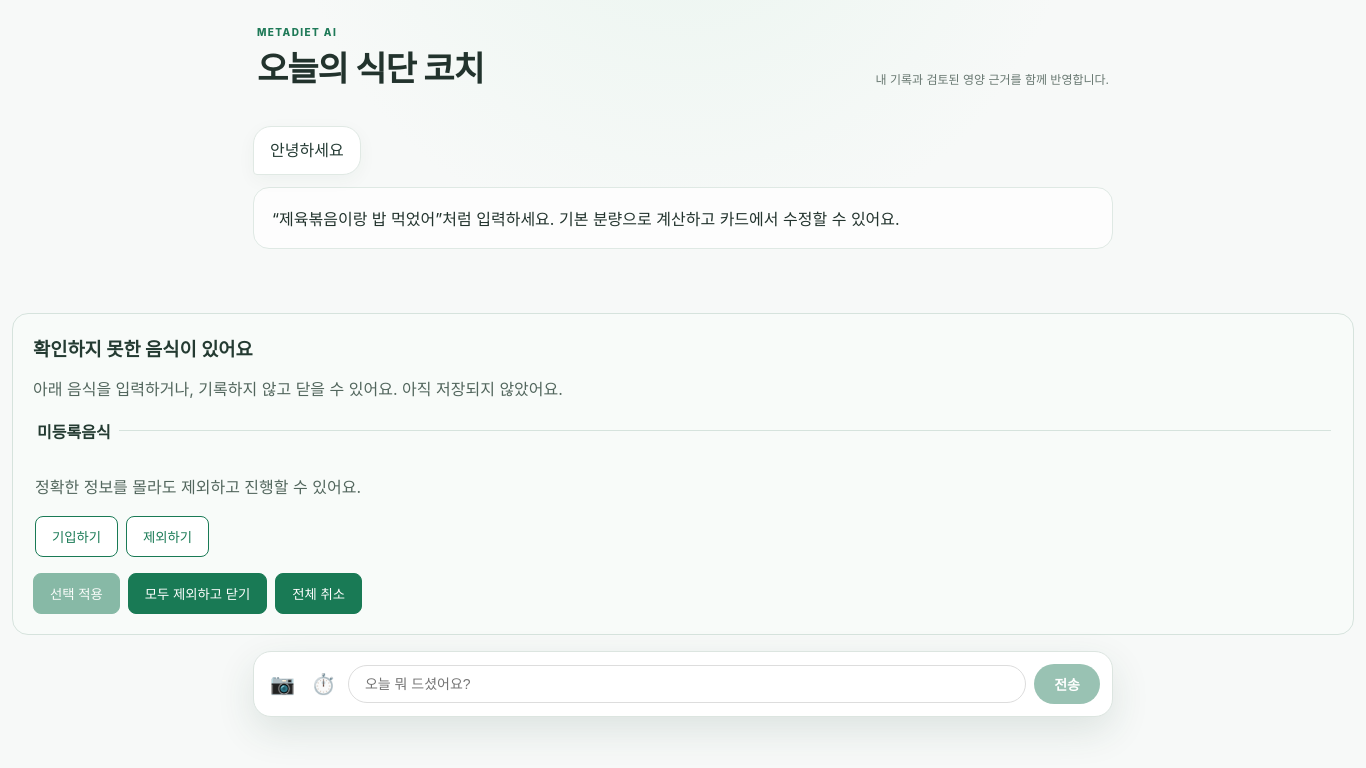
Test case: closing an entirely excluded selection removes card without saving and permits another message
Click the button "제외하기" at point(168, 537), box top-left (126, 516), bottom-right (209, 557)
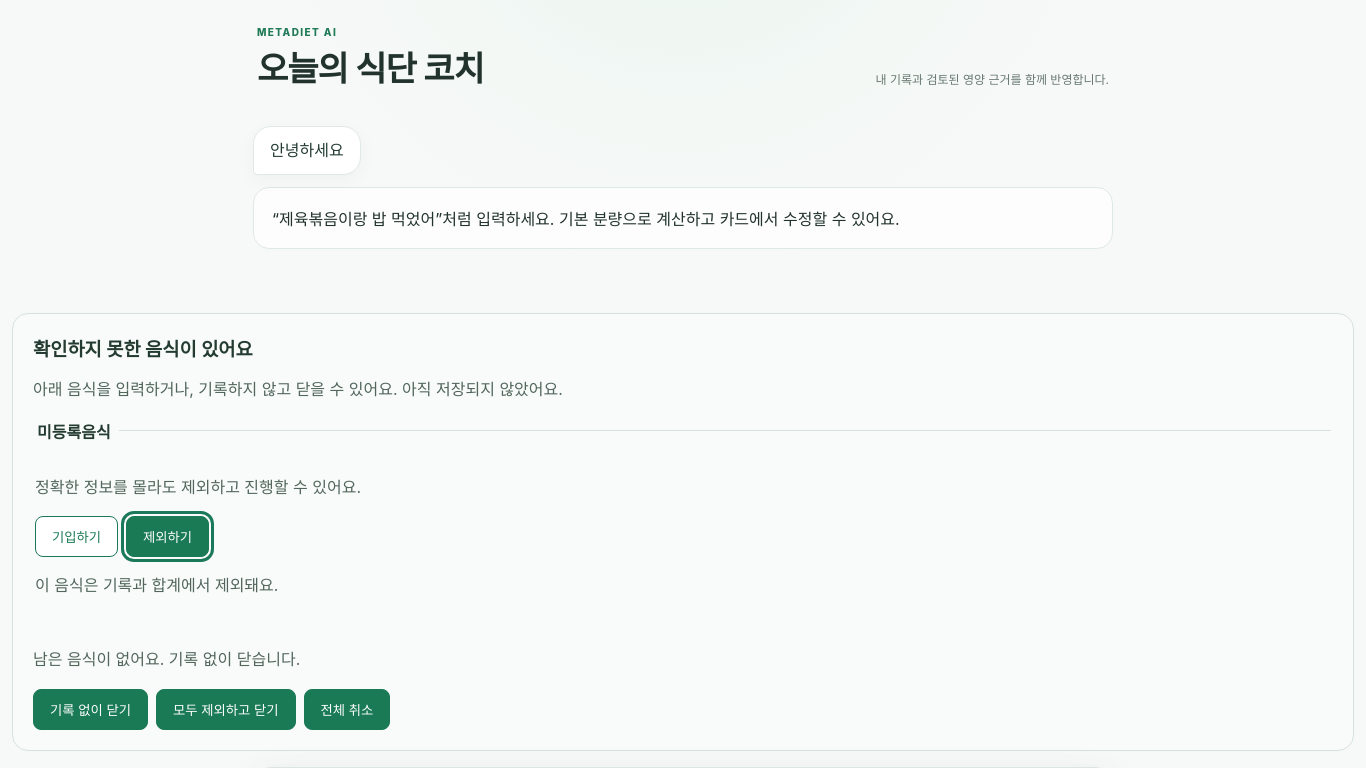
Click the button "기록 없이 닫기" at point(90, 709), box top-left (33, 689), bottom-right (148, 730)
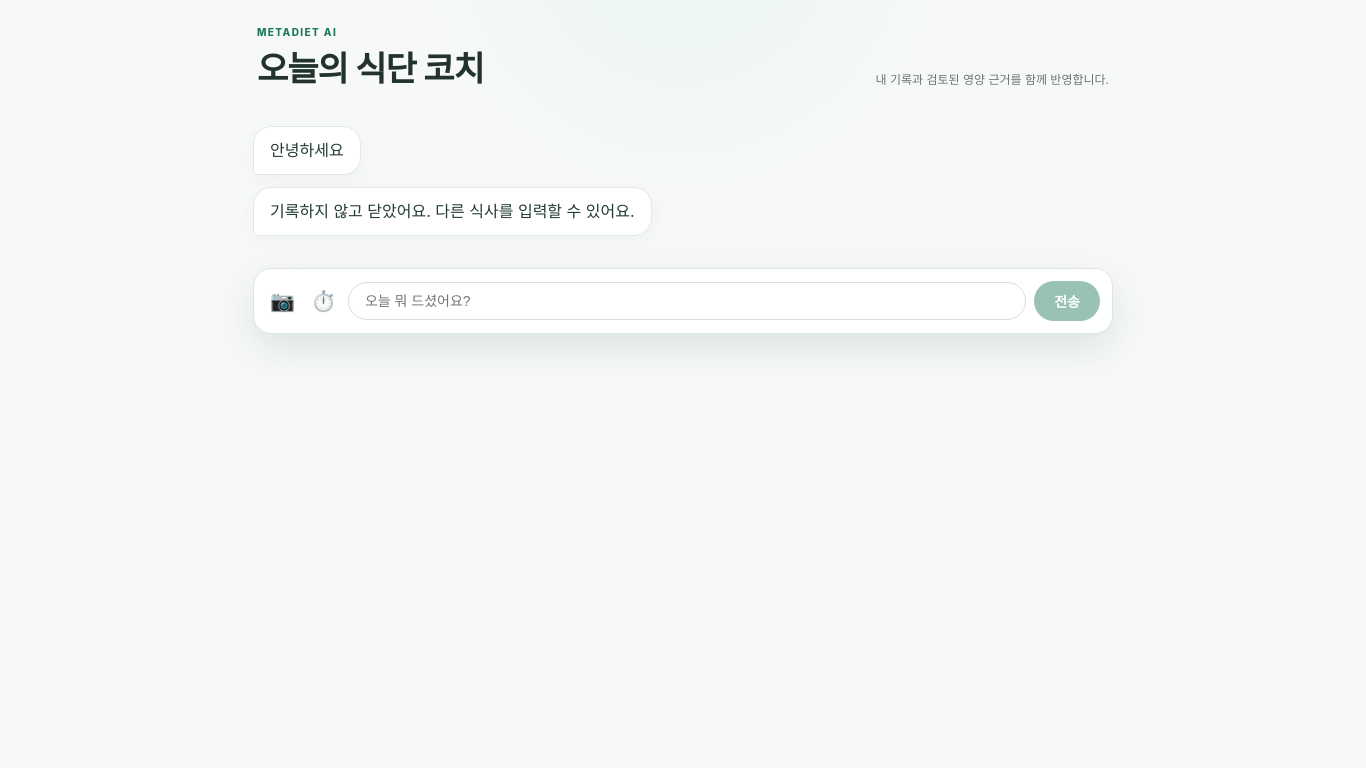
Now the text "기록하지 않고 닫았어요. 다른 식사를 입력할 수 있어요." is shown, box top-left (270, 198), bottom-right (635, 225)
